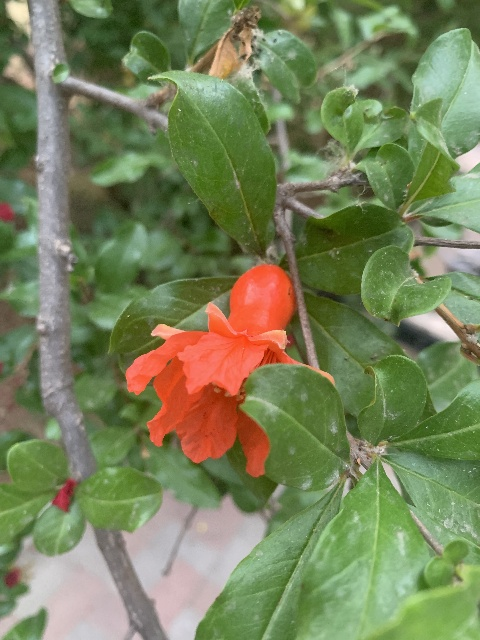flower: (124, 264, 330, 476)
